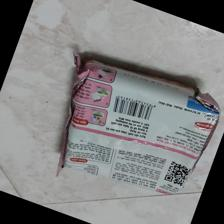Haohao: (56, 52, 221, 194)
